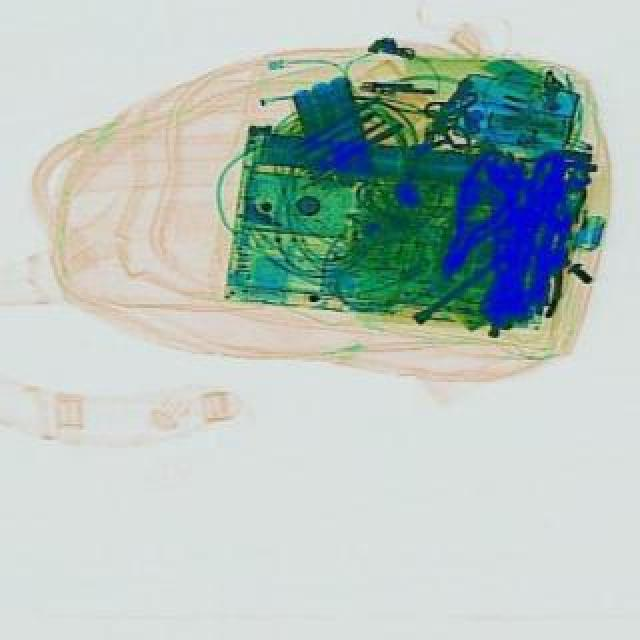wrench: (410, 142, 530, 290)
